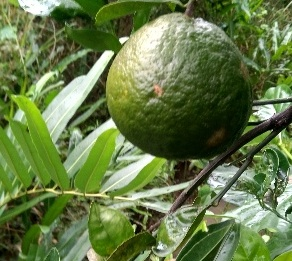Cam: (105, 10, 256, 163)
